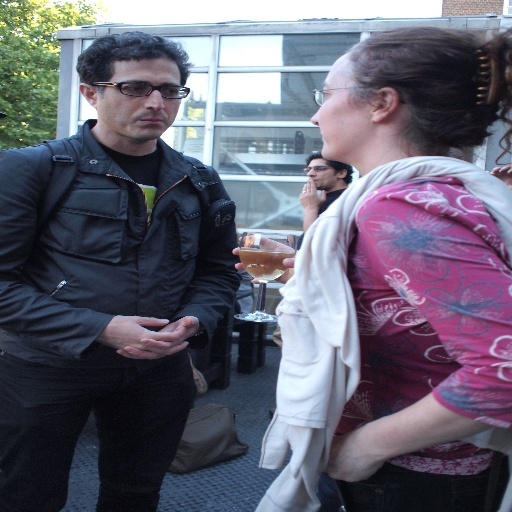hand: (116, 317, 202, 364), (229, 233, 299, 284), (318, 434, 385, 483), (297, 177, 327, 210), (487, 165, 511, 188)
